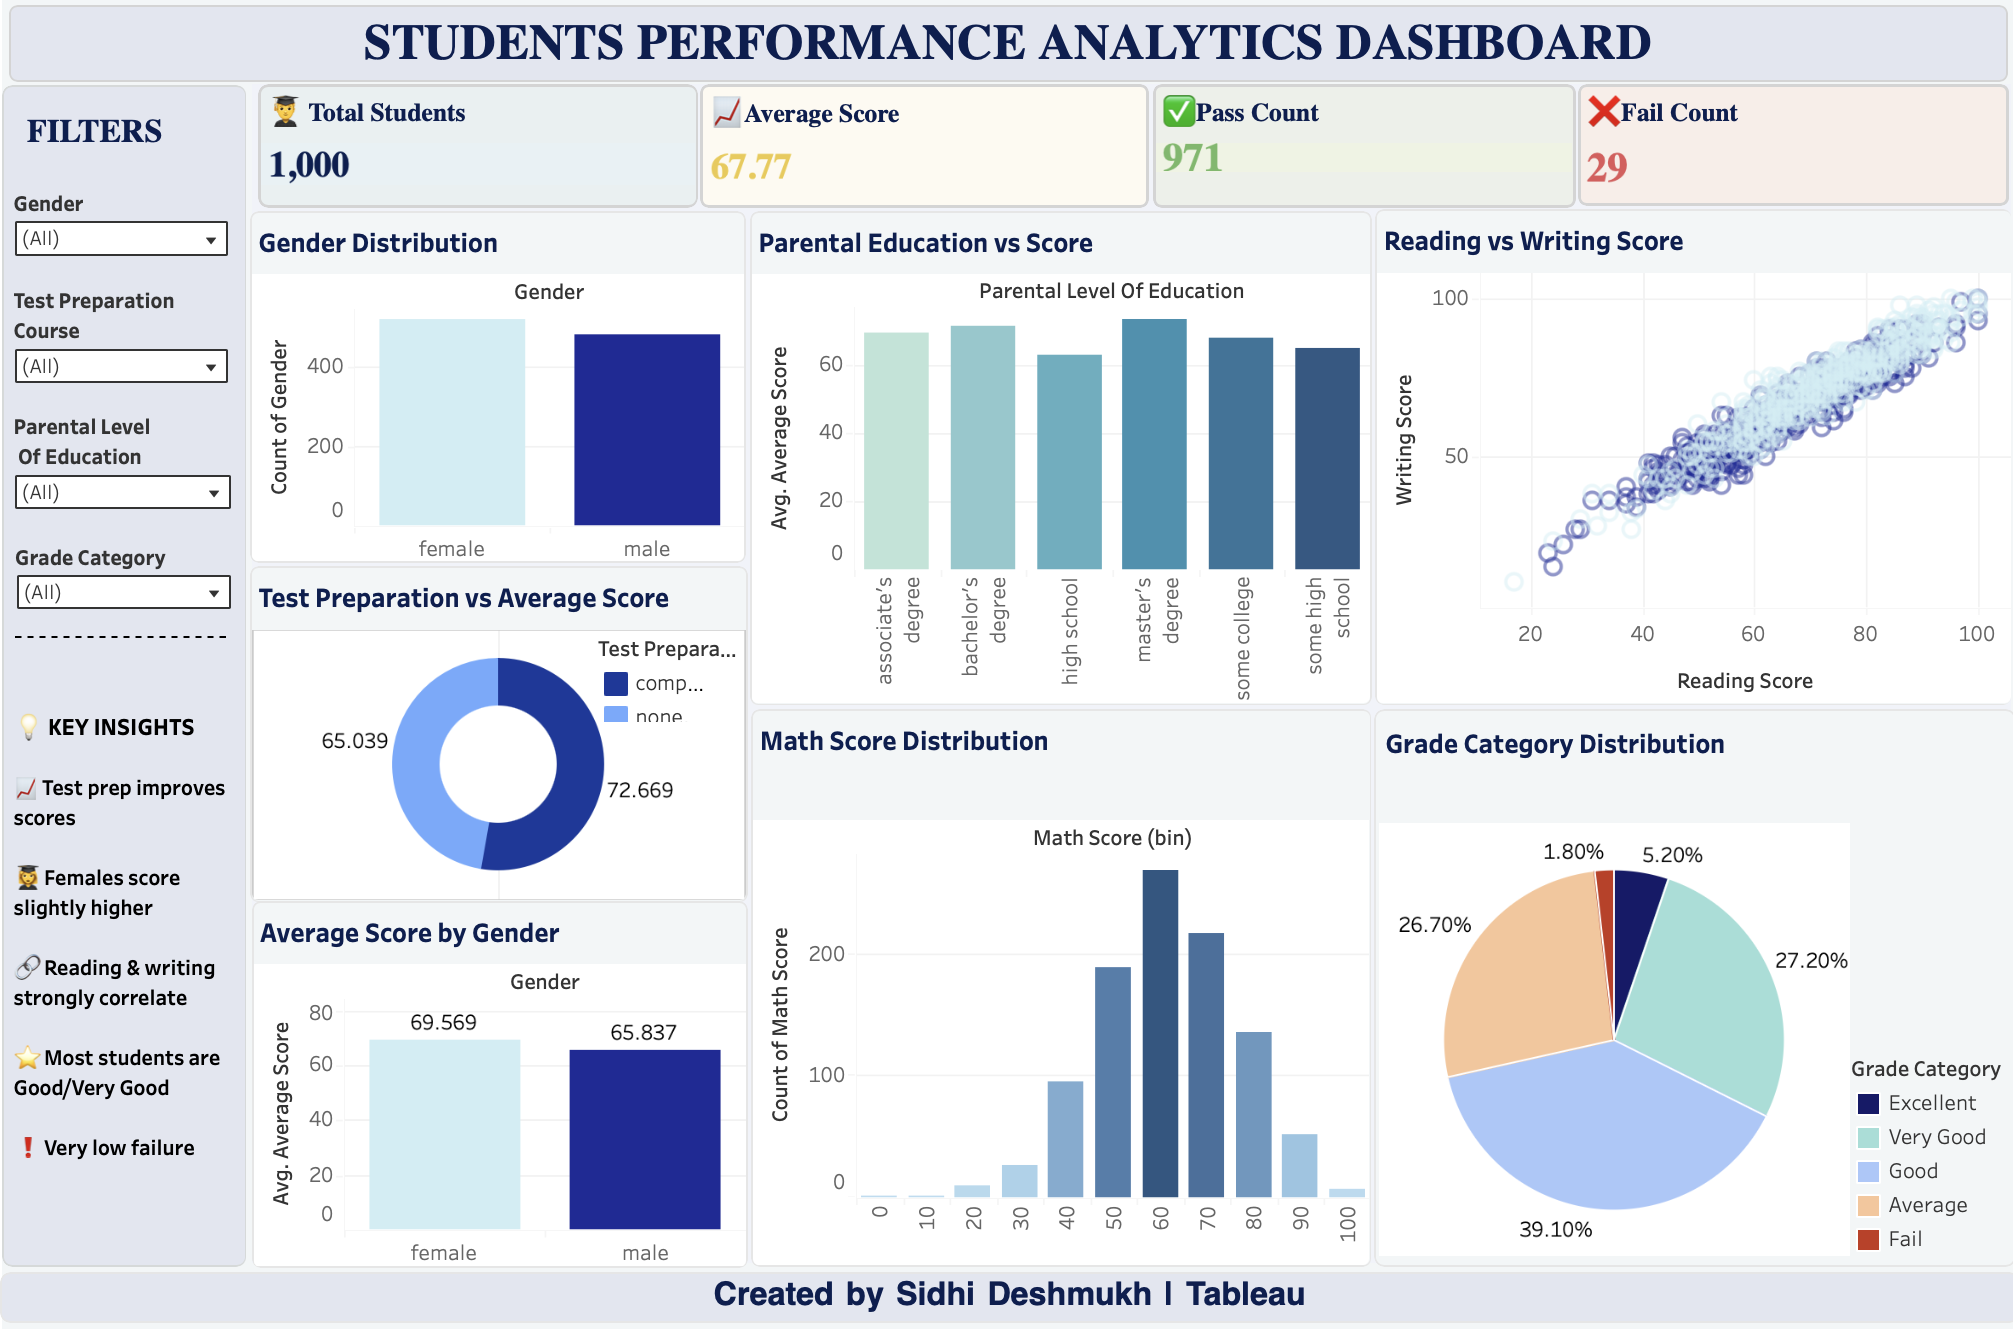

The page's visual inventory and layout, read from the dashboard file:
{"tool":"tableau","page":{"name":"Dashboard","canvas":[1200,800],"ordinal":0},"visuals":[{"type":"title","box":[8,8,1184,53]},{"type":"blank","box":[155,58,1035,694]},{"type":"worksheet","title":"Total Students","mark":"Automatic","box":[159,58,259,73]},{"type":"worksheet","title":"Average Score","mark":"Automatic","box":[419,58,264,73]},{"type":"worksheet","title":"Pass Count","mark":"Automatic","box":[685,58,249,73]},{"type":"worksheet","title":"Fail Count","mark":"Automatic","box":[935,58,254,72]},{"type":"blank","box":[8,59,144,695]},{"type":"text","box":[23,72,100,30]},{"type":"filter","title":"Average Score by Gender","param":"[federated.1dpdcsq1vacp5q1d7i0ie0phrp0g].[none:gender:nk]","box":[15,120,127,45]},{"type":"worksheet","title":"Reading vs Writing Score","mark":"Automatic","rows":["writing_score"],"cols":["reading_score"],"box":[816,132,375,292]},{"type":"worksheet","title":"Gender Distribution","mark":"Automatic","rows":["gender"],"cols":["gender"],"box":[154,133,292,207]},{"type":"worksheet","title":"Parental Education vs Score","mark":"Automatic","rows":["average_score"],"cols":["parental_level_of_education"],"box":[448,133,366,291]},{"type":"filter","title":"Test Preparation vs Average Score","param":"[federated.1dpdcsq1vacp5q1d7i0ie0phrp0g].[none:test_preparation_course:nk]","box":[15,177,127,67]},{"type":"filter","title":"Parental Education vs Score","param":"[federated.1dpdcsq1vacp5q1d7i0ie0phrp0g].[none:parental_level_of_education:nk]","box":[15,251,129,87]},{"type":"filter","title":"Grade Category Distribution","param":"[federated.1dpdcsq1vacp5q1d7i0ie0phrp0g].[none:grade_category:nk]","box":[16,328,128,58]},{"type":"worksheet","title":"Test Preparation vs Average Score","mark":"Pie","cols":["Calculation_0055320404860929","Calculation_0055320405286915"],"box":[154,342,293,198]},{"type":"legend","title":"Test Preparation vs Average Score","param":"[federated.1dpdcsq1vacp5q1d7i0ie0phrp0g].[none:test_preparation_course:nk]\n[fede","box":[359,382,83,52]},{"type":"blank","box":[16,383,124,1]},{"type":"worksheet","title":"Math Score Distribution","mark":"Automatic","rows":["math_score"],"cols":["Math Score (bin)"],"box":[449,426,365,328]},{"type":"text","box":[15,427,132,269]},{"type":"worksheet","title":"Grade Category Distribution","mark":"Pie","box":[818,429,277,319]},{"type":"worksheet","title":"Average Score by Gender","mark":"Automatic","rows":["average_score"],"cols":["gender"],"box":[155,539,292,216]},{"type":"text","box":[7,757,1188,30]}]}

Visuals, with their boxes in screenshot pixels (x1, y1, x2, y2), scaled from the page's 1200x800 canvas onto the 2013x1329 screenshot:
title: bbox(13, 13, 2000, 101)
blank: bbox(260, 96, 1996, 1249)
"Total Students" worksheet: bbox(267, 96, 701, 218)
"Average Score" worksheet: bbox(703, 96, 1146, 218)
"Pass Count" worksheet: bbox(1149, 96, 1567, 218)
"Fail Count" worksheet: bbox(1568, 96, 1995, 216)
blank: bbox(13, 98, 255, 1253)
text: bbox(39, 120, 206, 169)
"Average Score by Gender" filter: bbox(25, 199, 238, 274)
"Reading vs Writing Score" worksheet: bbox(1369, 219, 1998, 704)
"Gender Distribution" worksheet: bbox(258, 221, 748, 565)
"Parental Education vs Score" worksheet: bbox(752, 221, 1365, 704)
"Test Preparation vs Average Score" filter: bbox(25, 294, 238, 405)
"Parental Education vs Score" filter: bbox(25, 417, 242, 562)
"Grade Category Distribution" filter: bbox(27, 545, 242, 641)
"Test Preparation vs Average Score" worksheet (Pie marks): bbox(258, 568, 750, 897)
"Test Preparation vs Average Score" legend: bbox(602, 635, 741, 721)
blank: bbox(27, 636, 235, 638)
"Math Score Distribution" worksheet: bbox(753, 708, 1365, 1253)
text: bbox(25, 709, 247, 1156)
"Grade Category Distribution" worksheet (Pie marks): bbox(1372, 713, 1837, 1243)
"Average Score by Gender" worksheet: bbox(260, 895, 750, 1254)
text: bbox(12, 1258, 2005, 1307)
